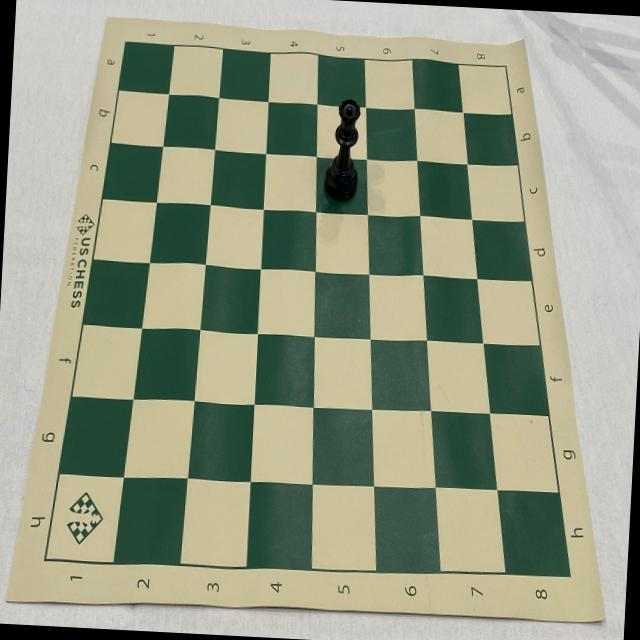black-queen: (322, 96, 364, 205)
